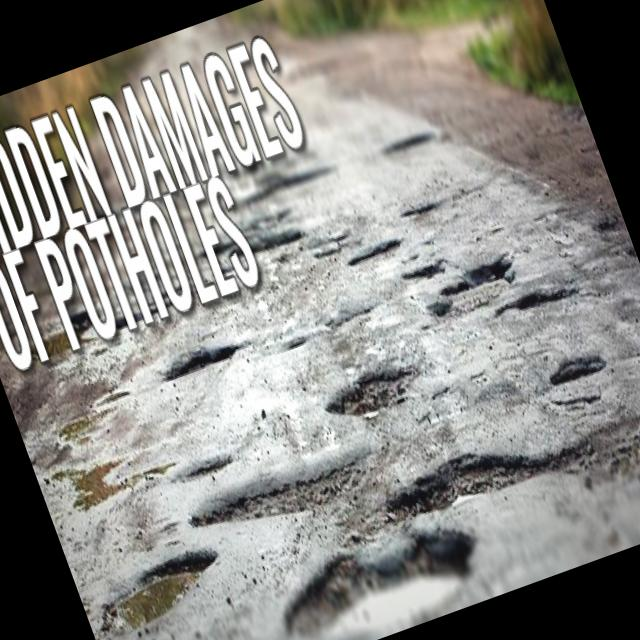Potholes: (374, 347, 640, 618), (260, 491, 493, 640), (179, 428, 386, 566), (83, 533, 239, 640), (316, 346, 444, 456), (199, 138, 341, 224), (419, 242, 534, 341), (185, 208, 313, 286), (154, 317, 258, 404), (530, 334, 618, 412), (370, 104, 450, 170), (338, 217, 413, 274), (394, 245, 456, 298)
